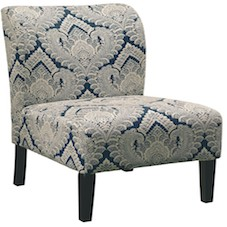chair: (0, 4, 221, 215)
